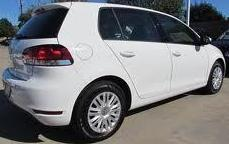back_view: (2, 36, 72, 129)
backlight: (20, 43, 79, 68)
side_glass: (101, 9, 201, 39)
